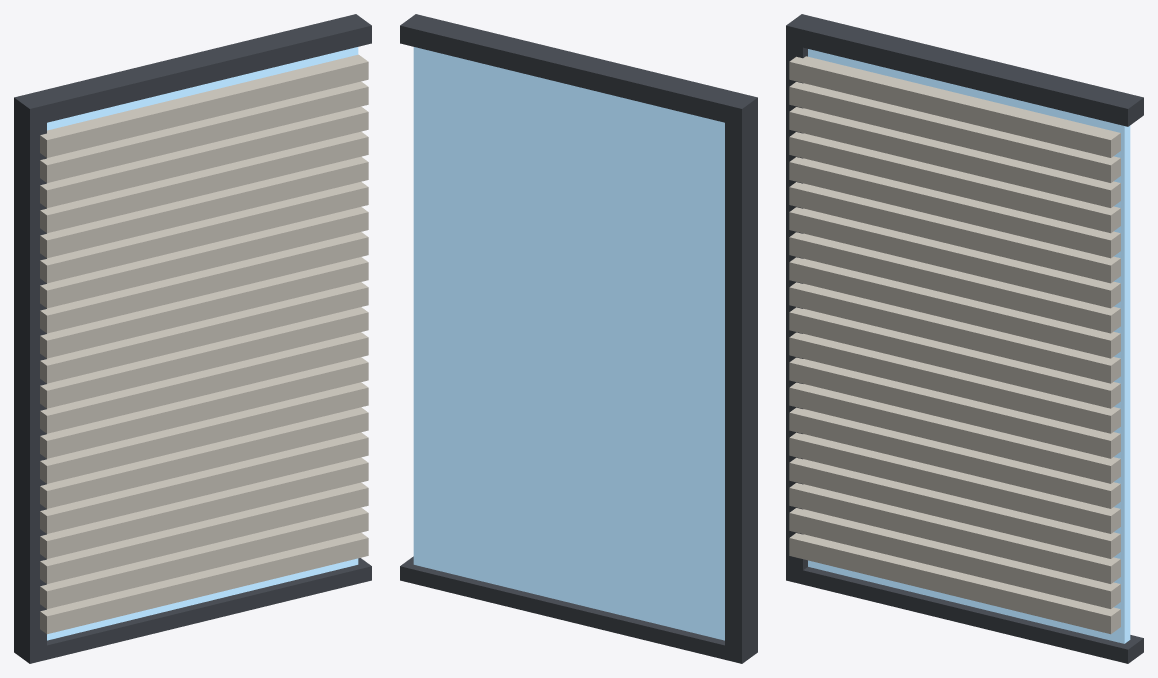
File: glass_blinds.glb
3 views of the same model, side by side, from view 1: azimuth 30°, elevation 25°; view 2: azimuth 150°, elevation 25°; view 3: azimuth 330°, elevation 25° (orthographic).
Visible parts, largest first — view 1: BlindSlats, glass_blinds_mesh; view 2: glass_blinds_mesh; view 3: BlindSlats, glass_blinds_mesh.
Boxes of the visible parts, <box> form: BlindSlats: <box>40,54,368,634</box>; glass_blinds_mesh: <box>14,14,371,663</box>; glass_blinds_mesh: <box>400,14,757,663</box>; BlindSlats: <box>789,56,1120,634</box>; glass_blinds_mesh: <box>786,14,1143,663</box>.
Bounding box in the file's own units: 1 × 1.55 × 0.115.
